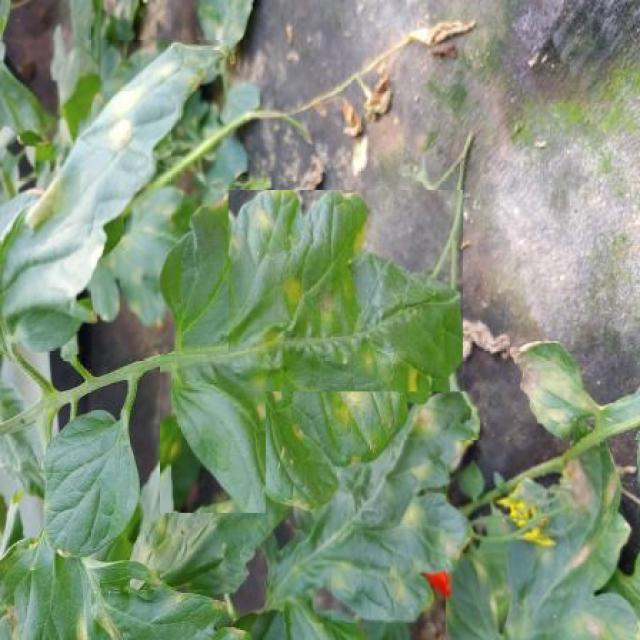Leaf Mold: (160, 190, 463, 513), (0, 40, 229, 354), (266, 391, 480, 623), (445, 440, 640, 640)
